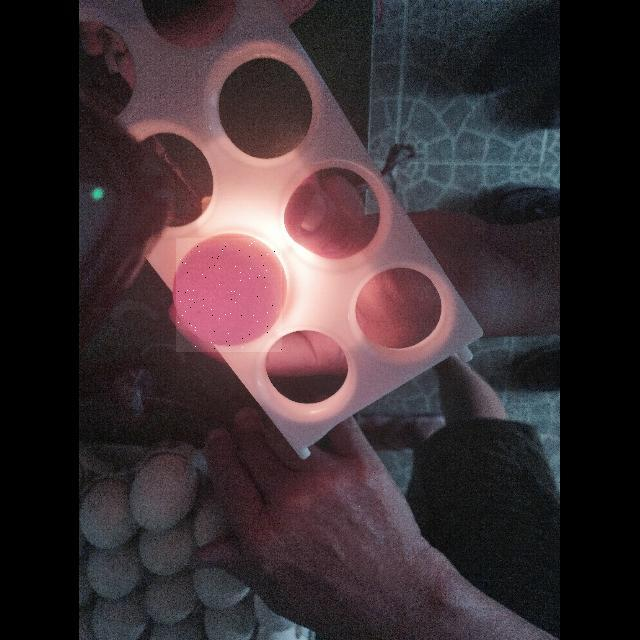Infertile: (176, 238, 282, 352)
